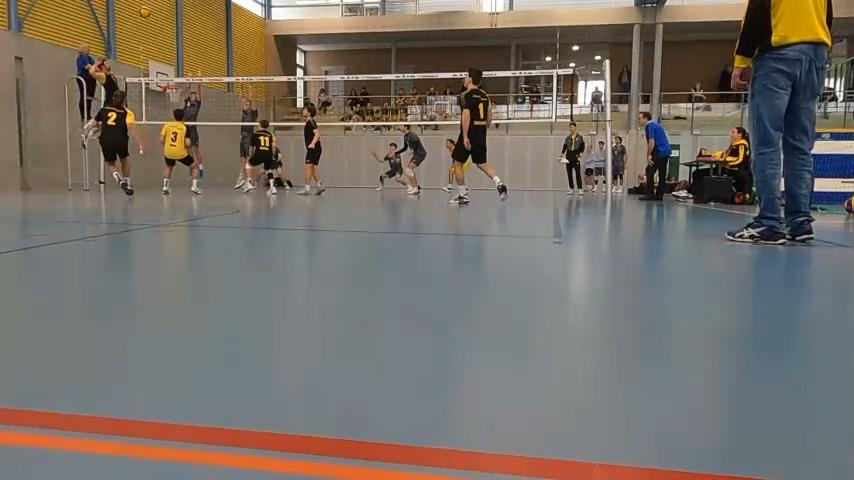attacco: (68, 55, 125, 147)
muro: (234, 69, 258, 188), (178, 70, 205, 152)
